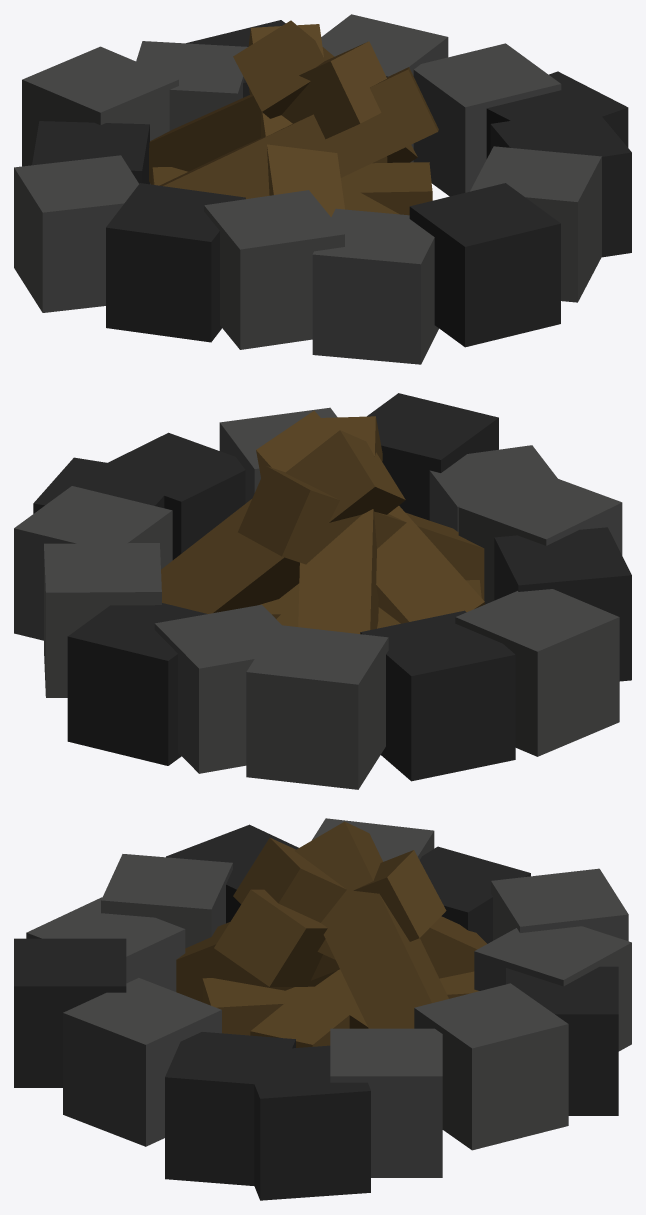
File: firepit.gltf
The picture shows the model from 3 angles, top to bottom: view 1: azimuth 30°, elevation 25°; view 2: azimuth 150°, elevation 25°; view 3: azimuth 270°, elevation 25°; orthographic projection. The views are drawn at different scales.
Visible parts, largest first — view 1: 61570f57-71fc-9523-1d49-a1fb5e687694, c522d54e-9f7c-cda8-321a-6554753c0f44, bdbca4fe-4afd-0e8d-e153-f56ab065a42a, d7e5c456-3573-6b6e-0da1-3fbf1cafc3c0, a2cec83a-be0d-e72b-84e4-3f733a0ce68b, 45b9cb65-1d8c-7432-31f6-ab26ce6e5f77, 205fc29f-6a34-33fc-73df-7c44fee3a892, 669e649b-61bf-ada4-9d67-6ad912f7f7b5, 45d8d317-7a18-7207-4a8d-4f7222c69f1f, de2b034d-2bf8-7093-b1b1-9497bbe04a00, 3f6b004b-a59d-85b7-bb04-2d43ad3f3004, 152a24bd-e237-d83d-bc60-0d14a579ade1 (+8 smaller); view 2: 45d8d317-7a18-7207-4a8d-4f7222c69f1f, 5eb5b693-9168-e661-cf70-a54600a8ca64, a2cec83a-be0d-e72b-84e4-3f733a0ce68b, a4e5c807-0826-d6b8-aff7-03987272ac07, e983057c-dc8f-4695-0968-4d0820bd48e2, 152a24bd-e237-d83d-bc60-0d14a579ade1, abaffc20-63b2-b6f3-d03f-195ff2801d62, 45b9cb65-1d8c-7432-31f6-ab26ce6e5f77, ef57ffad-e03d-53f4-dc79-9935519f7797, 669e649b-61bf-ada4-9d67-6ad912f7f7b5, bdbca4fe-4afd-0e8d-e153-f56ab065a42a, d7e5c456-3573-6b6e-0da1-3fbf1cafc3c0 (+7 smaller); view 3: abaffc20-63b2-b6f3-d03f-195ff2801d62, de2b034d-2bf8-7093-b1b1-9497bbe04a00, fd5896d4-e0c5-fceb-7e35-c933d182c751, e983057c-dc8f-4695-0968-4d0820bd48e2, 3f6b004b-a59d-85b7-bb04-2d43ad3f3004, 45b9cb65-1d8c-7432-31f6-ab26ce6e5f77, 61570f57-71fc-9523-1d49-a1fb5e687694, a4e5c807-0826-d6b8-aff7-03987272ac07, d7e5c456-3573-6b6e-0da1-3fbf1cafc3c0, 152a24bd-e237-d83d-bc60-0d14a579ade1, 669e649b-61bf-ada4-9d67-6ad912f7f7b5, 45d8d317-7a18-7207-4a8d-4f7222c69f1f (+9 smaller).
Part boxes in pixels (x1,y1,x2,y2): 61570f57-71fc-9523-1d49-a1fb5e687694: [409, 183, 560, 347]; c522d54e-9f7c-cda8-321a-6554753c0f44: [312, 208, 438, 364]; bdbca4fe-4afd-0e8d-e153-f56ab065a42a: [106, 183, 245, 342]; d7e5c456-3573-6b6e-0da1-3fbf1cafc3c0: [204, 190, 344, 349]; a2cec83a-be0d-e72b-84e4-3f733a0ce68b: [14, 155, 138, 312]; 45b9cb65-1d8c-7432-31f6-ab26ce6e5f77: [413, 43, 561, 196]; 205fc29f-6a34-33fc-73df-7c44fee3a892: [160, 67, 438, 198]; 669e649b-61bf-ada4-9d67-6ad912f7f7b5: [149, 41, 386, 184]; 45d8d317-7a18-7207-4a8d-4f7222c69f1f: [22, 46, 178, 184]; de2b034d-2bf8-7093-b1b1-9497bbe04a00: [470, 146, 601, 302]; 3f6b004b-a59d-85b7-bb04-2d43ad3f3004: [490, 108, 631, 257]; 152a24bd-e237-d83d-bc60-0d14a579ade1: [136, 41, 247, 130]; 45d8d317-7a18-7207-4a8d-4f7222c69f1f: [246, 624, 388, 789]; 5eb5b693-9168-e661-cf70-a54600a8ca64: [360, 610, 515, 781]; a2cec83a-be0d-e72b-84e4-3f733a0ce68b: [455, 589, 619, 756]; a4e5c807-0826-d6b8-aff7-03987272ac07: [67, 603, 207, 765]; e983057c-dc8f-4695-0968-4d0820bd48e2: [161, 430, 405, 613]; 152a24bd-e237-d83d-bc60-0d14a579ade1: [154, 604, 281, 773]; abaffc20-63b2-b6f3-d03f-195ff2801d62: [44, 543, 161, 697]; 45b9cb65-1d8c-7432-31f6-ab26ce6e5f77: [14, 486, 172, 640]; ef57ffad-e03d-53f4-dc79-9935519f7797: [238, 466, 484, 600]; 669e649b-61bf-ada4-9d67-6ad912f7f7b5: [298, 416, 382, 633]; bdbca4fe-4afd-0e8d-e153-f56ab065a42a: [494, 527, 631, 681]; d7e5c456-3573-6b6e-0da1-3fbf1cafc3c0: [458, 470, 622, 604]; abaffc20-63b2-b6f3-d03f-195ff2801d62: [414, 983, 568, 1150]; de2b034d-2bf8-7093-b1b1-9497bbe04a00: [63, 978, 221, 1146]; fd5896d4-e0c5-fceb-7e35-c933d182c751: [242, 1045, 370, 1200]; e983057c-dc8f-4695-0968-4d0820bd48e2: [294, 821, 448, 1028]; 3f6b004b-a59d-85b7-bb04-2d43ad3f3004: [165, 1032, 295, 1185]; 45b9cb65-1d8c-7432-31f6-ab26ce6e5f77: [330, 1028, 442, 1177]; 61570f57-71fc-9523-1d49-a1fb5e687694: [14, 938, 126, 1087]; a4e5c807-0826-d6b8-aff7-03987272ac07: [506, 966, 618, 1115]; d7e5c456-3573-6b6e-0da1-3fbf1cafc3c0: [101, 854, 232, 948]; 152a24bd-e237-d83d-bc60-0d14a579ade1: [474, 926, 631, 1051]; 669e649b-61bf-ada4-9d67-6ad912f7f7b5: [233, 838, 486, 978]; 45d8d317-7a18-7207-4a8d-4f7222c69f1f: [491, 868, 628, 941].
Bounding box in the file's own units: 0.5766 × 0.2284 × 0.5495.
Materials: 3 (3 with a texture image).
